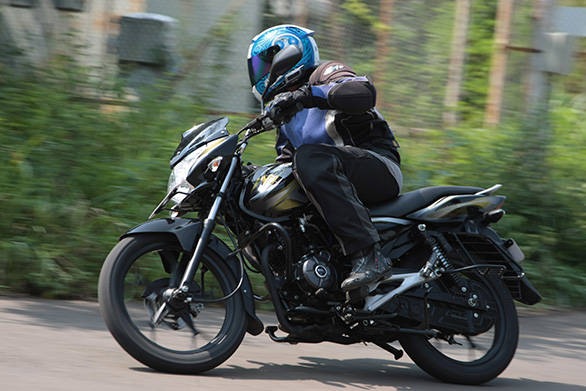helmet: (245, 21, 318, 96)
